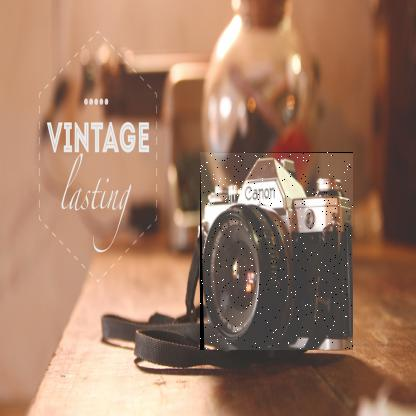Camera: (201, 153, 355, 352)
